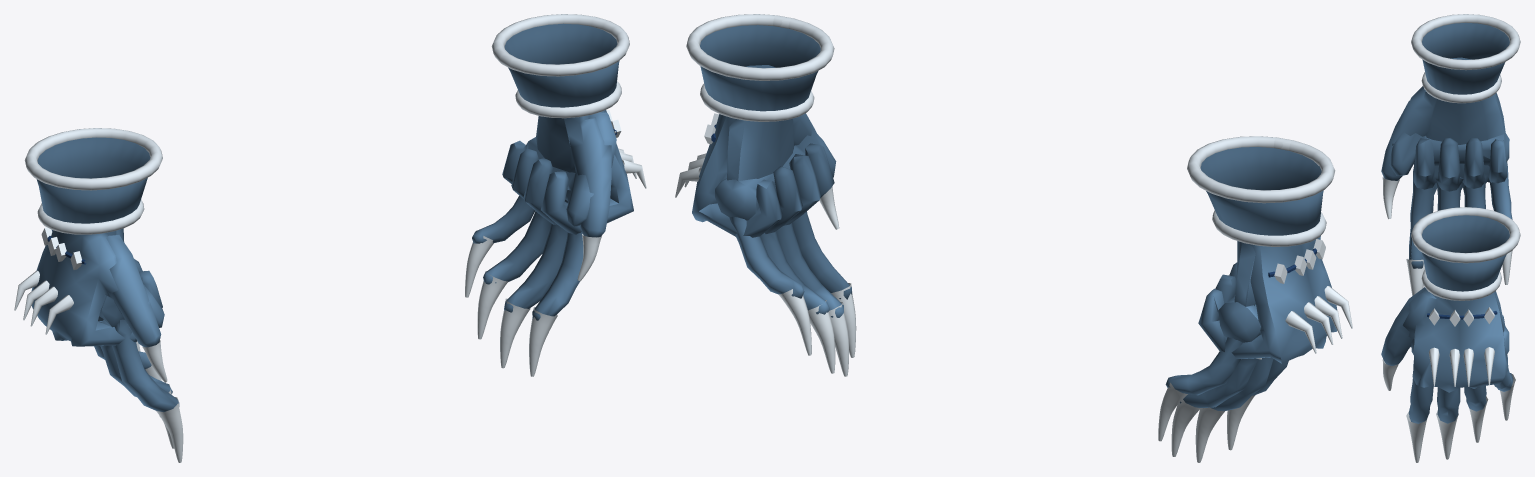
File: g_dragonknight_ice.glb
3 views of the same model, side by side, from view 1: azimuth 30°, elevation 25°; view 2: azimuth 150°, elevation 25°; view 3: azimuth 270°, elevation 25° (orthographic). The views are drawn at different scales.
Visible parts, largest first — view 1: ArmL_HandOpen, ArmR_Gauntlet, ArmL_Gauntlet, ArmR_Hand, ArmR_HandOpen, ArmL_Hand; view 2: ArmL_HandOpen, ArmR_Gauntlet, ArmL_Gauntlet, ArmR_Hand, ArmL_Hand, ArmR_HandOpen; view 3: ArmL_Hand, ArmR_HandOpen, ArmL_Gauntlet, ArmR_Gauntlet, ArmR_Hand, ArmL_HandOpen.
Part boxes in pixels (bbox=[...]): ArmL_HandOpen: bbox=[465, 115, 611, 376]; ArmR_Gauntlet: bbox=[24, 128, 162, 234]; ArmL_Gauntlet: bbox=[491, 14, 629, 118]; ArmR_Hand: bbox=[14, 227, 164, 346]; ArmR_HandOpen: bbox=[94, 228, 183, 462]; ArmL_Hand: bbox=[502, 110, 646, 234]; ArmL_HandOpen: bbox=[727, 113, 856, 376]; ArmR_Gauntlet: bbox=[1187, 136, 1335, 246]; ArmL_Gauntlet: bbox=[686, 14, 834, 121]; ArmR_Hand: bbox=[1198, 236, 1352, 363]; ArmL_Hand: bbox=[675, 65, 836, 237]; ArmR_HandOpen: bbox=[1158, 241, 1288, 462]; ArmL_Hand: bbox=[1403, 289, 1509, 392]; ArmR_HandOpen: bbox=[1381, 89, 1512, 295]; ArmL_Gauntlet: bbox=[1411, 207, 1520, 300]; ArmR_Gauntlet: bbox=[1411, 14, 1520, 103]; ArmR_Hand: bbox=[1389, 57, 1509, 191]; ArmL_HandOpen: bbox=[1381, 287, 1515, 462].
Bounding box in the file's own units: 0.6039 × 0.2889 × 0.1421.
